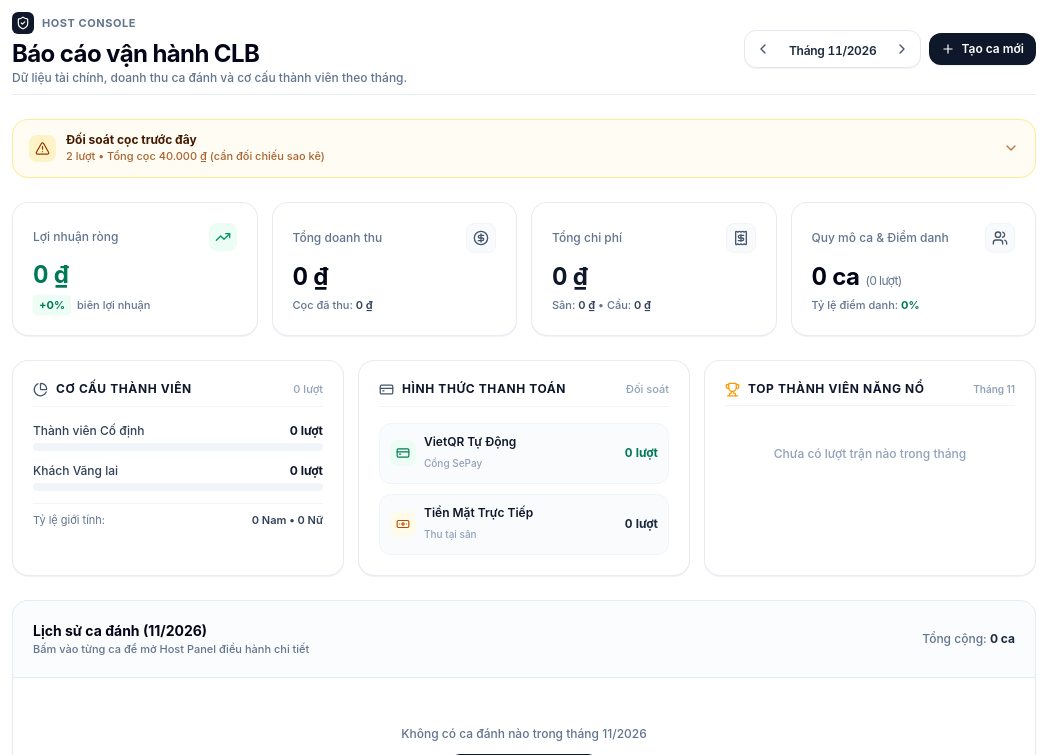
Test: HostOverviewView - Đối soát cọc trước đây › có dữ liệu: hiện thẻ thu gọn, bấm mở thì thấy giải thích và từng lượt
The image size is (1048, 755).
Check: the text "2 lượt • Tổng cọc 40.000 ₫ (cần đối chiếu sao kê)" is shown, box 66,148 -> 325,164
Check: the text "Khách Cũ" is not shown
Click the button "Đối soát cọc trước đây". click: [131, 140]
box: 13,120 -> 1035,176
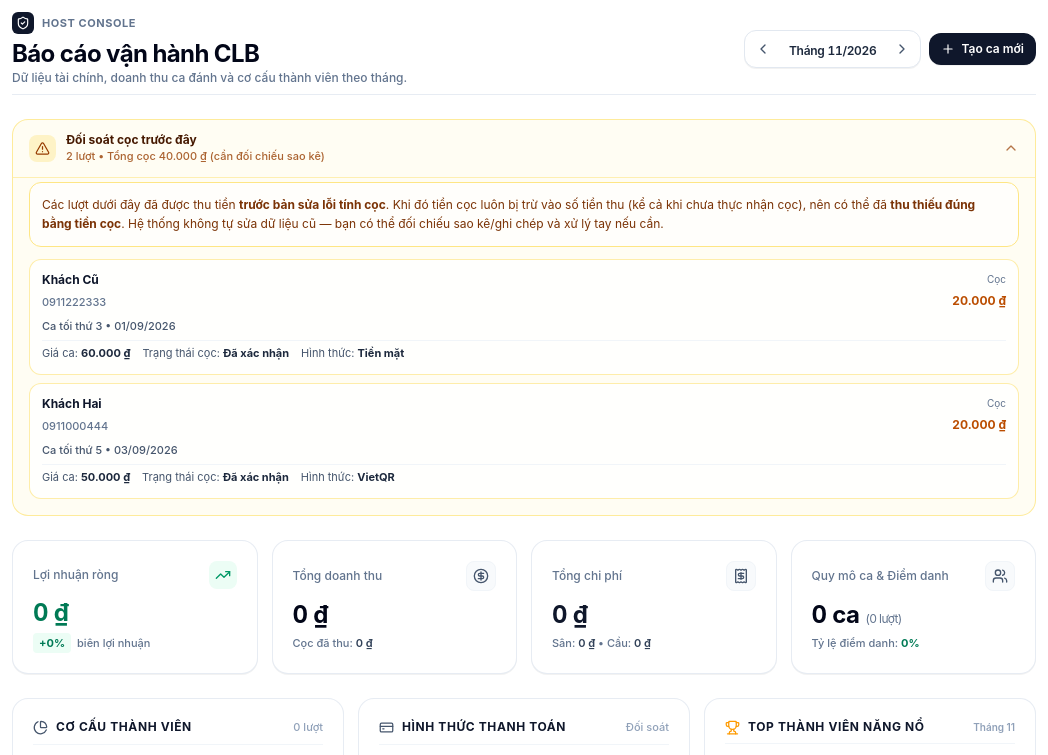
Check: the button "Đối soát cọc trước đây" is expanded, box 13,120 -> 1035,176
Check: the text "trước bản sửa lỗi tính cọc" is shown, box 239,196 -> 386,212
Check: the text "Khách Cũ" is shown, box 42,272 -> 106,288
